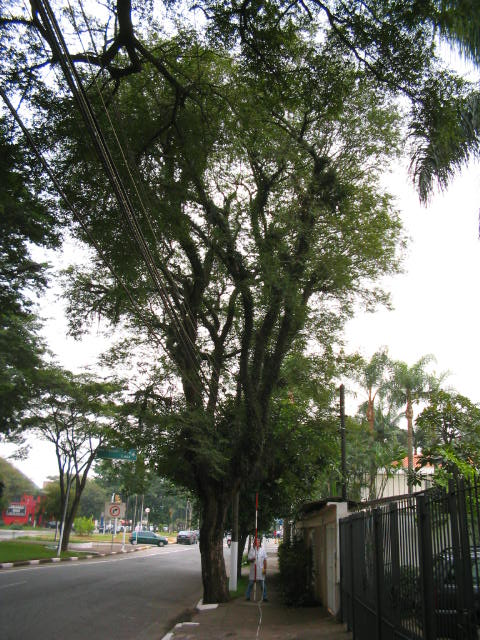crown: (61, 47, 412, 376), (25, 367, 136, 466)
stem: (186, 504, 245, 605)
stick: (245, 492, 266, 600)
tree: (58, 47, 416, 606), (24, 365, 138, 549)
